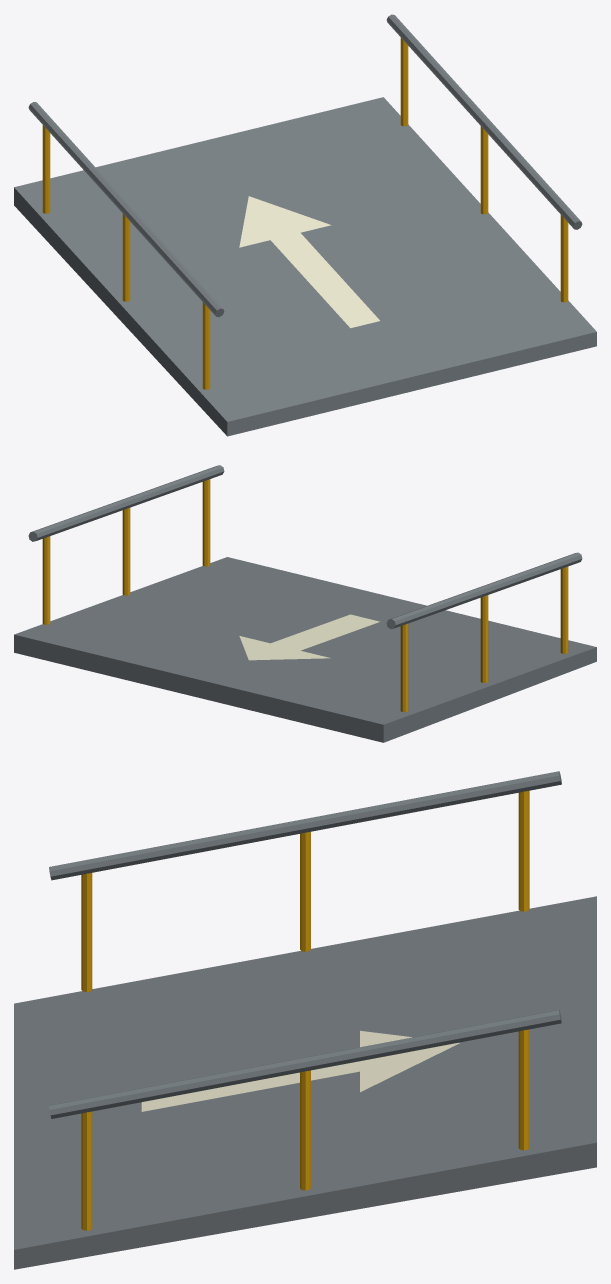
The model's file is ParkingRampModule.fbx.
The picture shows the model from 3 angles, top to bottom: view 1: azimuth 30°, elevation 25°; view 2: azimuth 150°, elevation 25°; view 3: azimuth 270°, elevation 25°; orthographic projection. The views are drawn at different scales.
Parts seen in each view (by area): view 1: ParkingRampModule; view 2: ParkingRampModule; view 3: ParkingRampModule.
Part boxes in pixels (left/top/right/bottom): ParkingRampModule: left=14, top=14, right=596, bottom=436; ParkingRampModule: left=14, top=465, right=596, bottom=742; ParkingRampModule: left=14, top=771, right=596, bottom=1269.
Size of the model in its own units: 320 by 155 by 320.
1 material, 1 textured.
